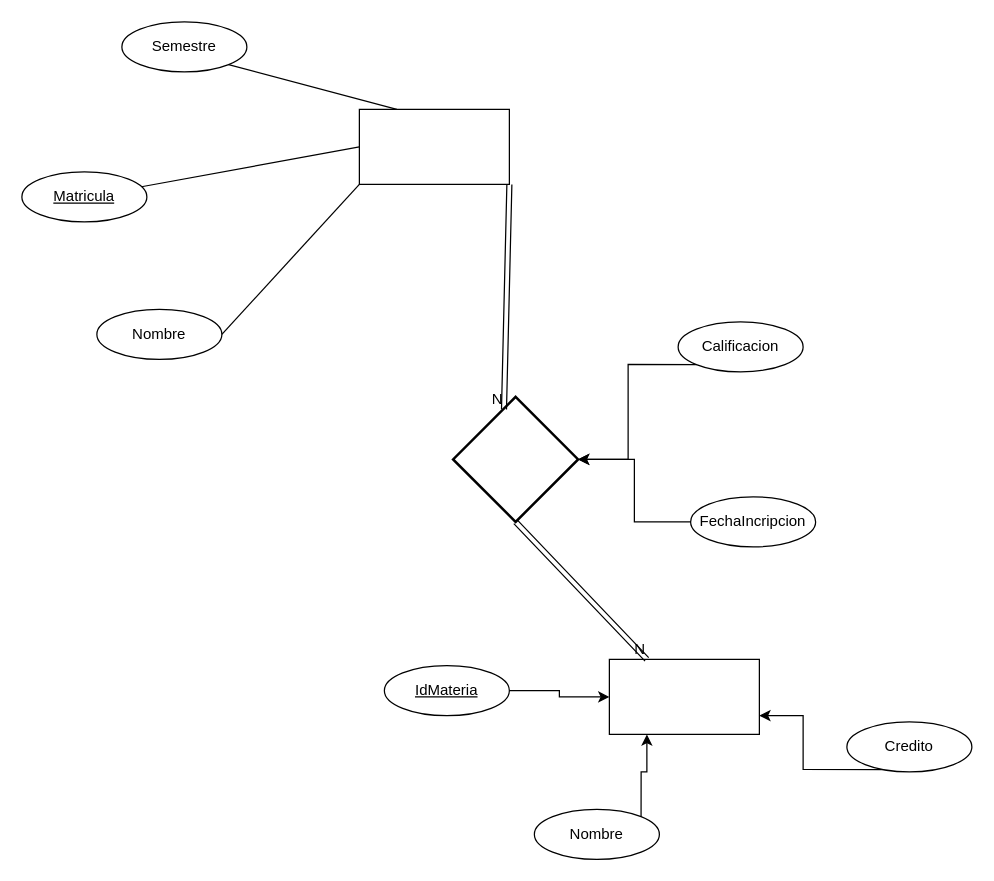
The diagram is 994 pixels wide and 881 high, and some of its shapes have lost their labels. Here are the shapes that lost their labels. From the top down, the centre of each, then its label:
point (433, 146): ALUMNO
point (515, 458): inscribe
point (683, 696): MATERIA
